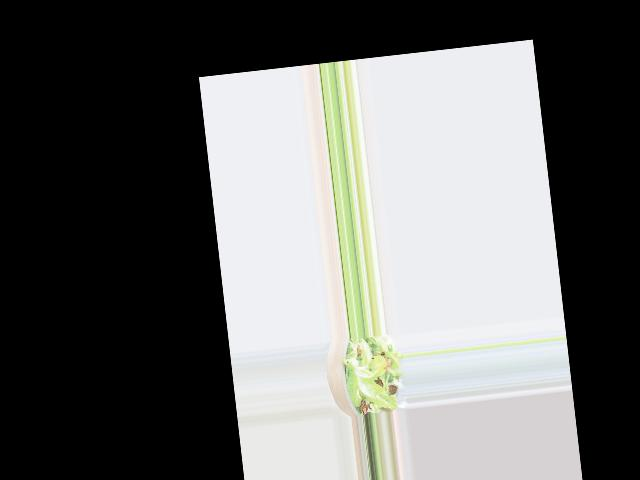lettuce: (341, 337, 403, 409)
